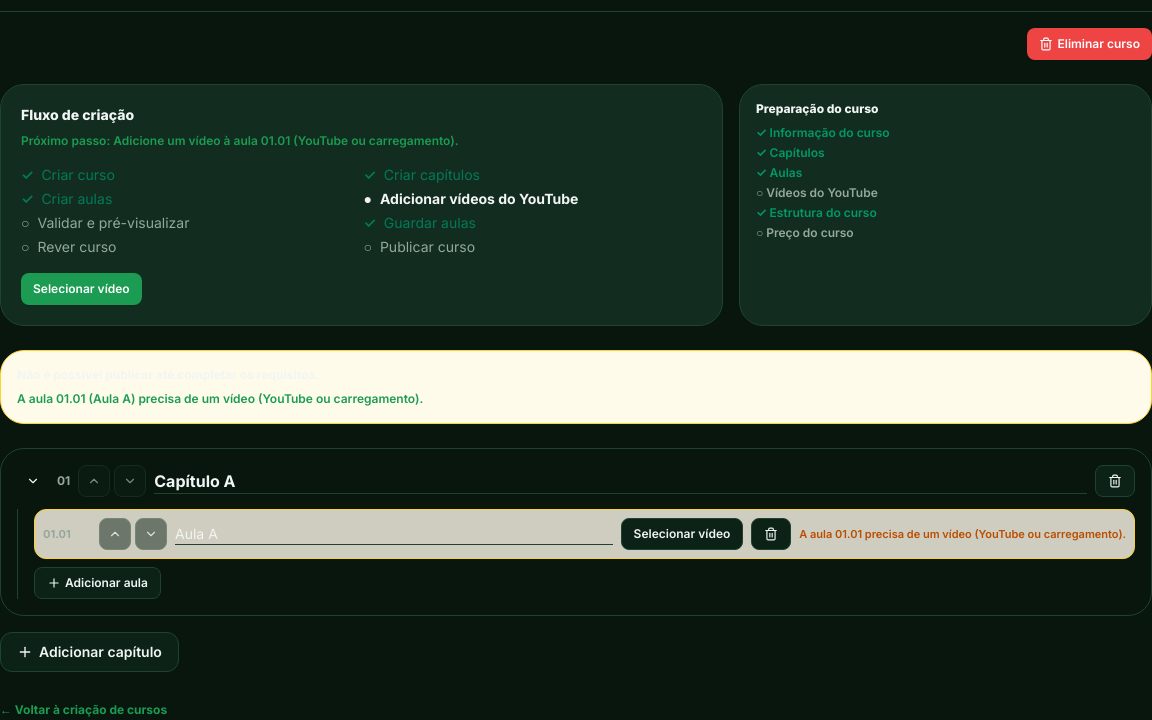
CourseEditor guided YouTube authoring › identifies a lesson that still needs a YouTube video
(page scrolled)
expect the text "Adicione um vídeo à aula 01.01" is shown: met, box [113, 133, 459, 148]
Click the button "A aula 01.01 (Aula A) precisa de um vídeo (YouTube ou carregamento)" at (220, 399), box [17, 391, 423, 407]
(page scrolled)
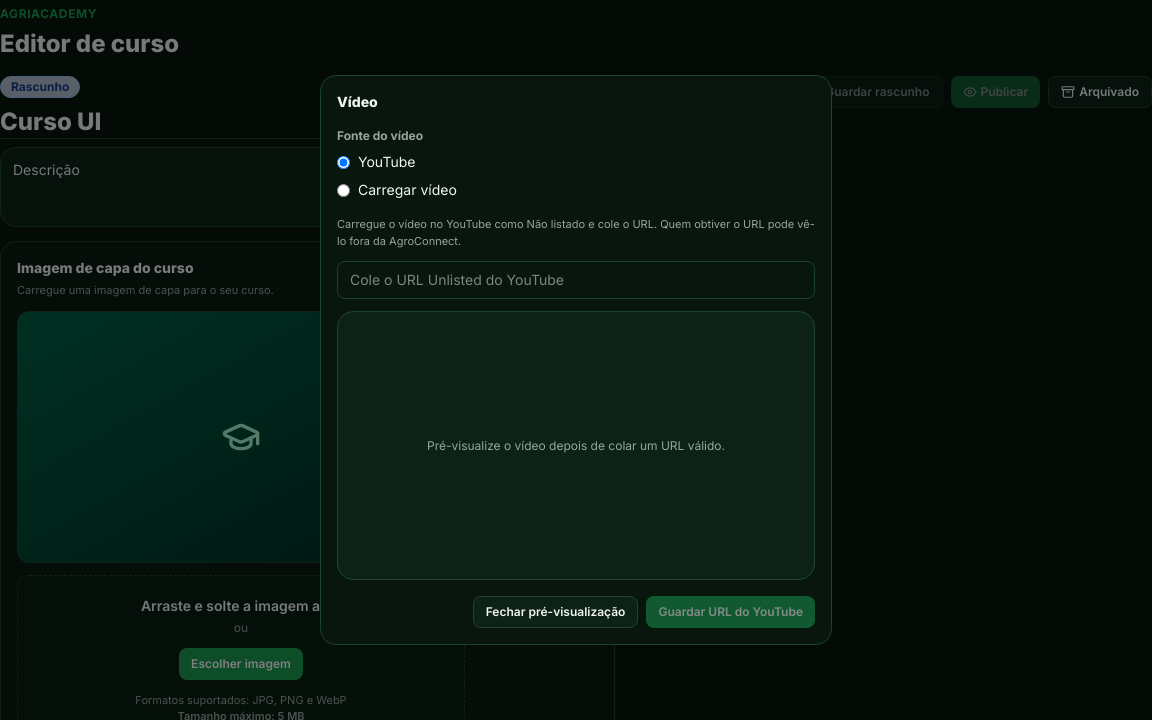
expect the button "Publicar" is disabled: met, box [950, 76, 1040, 108]
expect the heading "Vídeo" is shown: met, box [337, 93, 378, 110]
